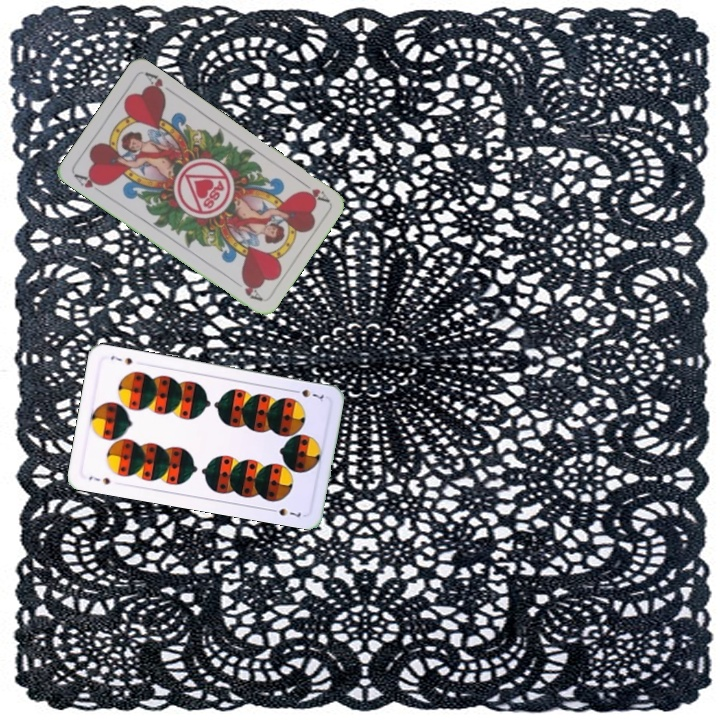HA: (296, 176, 332, 205), (70, 170, 107, 197)
S7: (288, 385, 326, 404), (85, 472, 113, 487)
